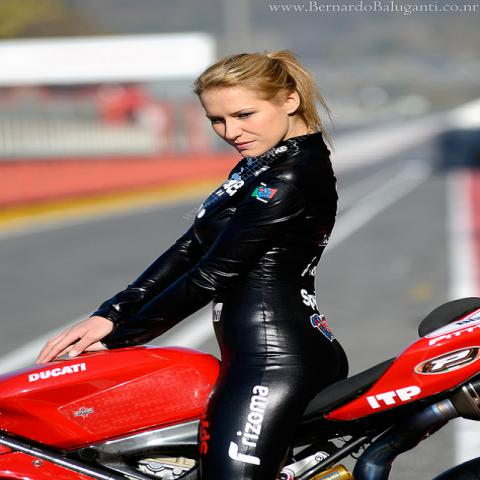motorcycle: (1, 297, 479, 474)
